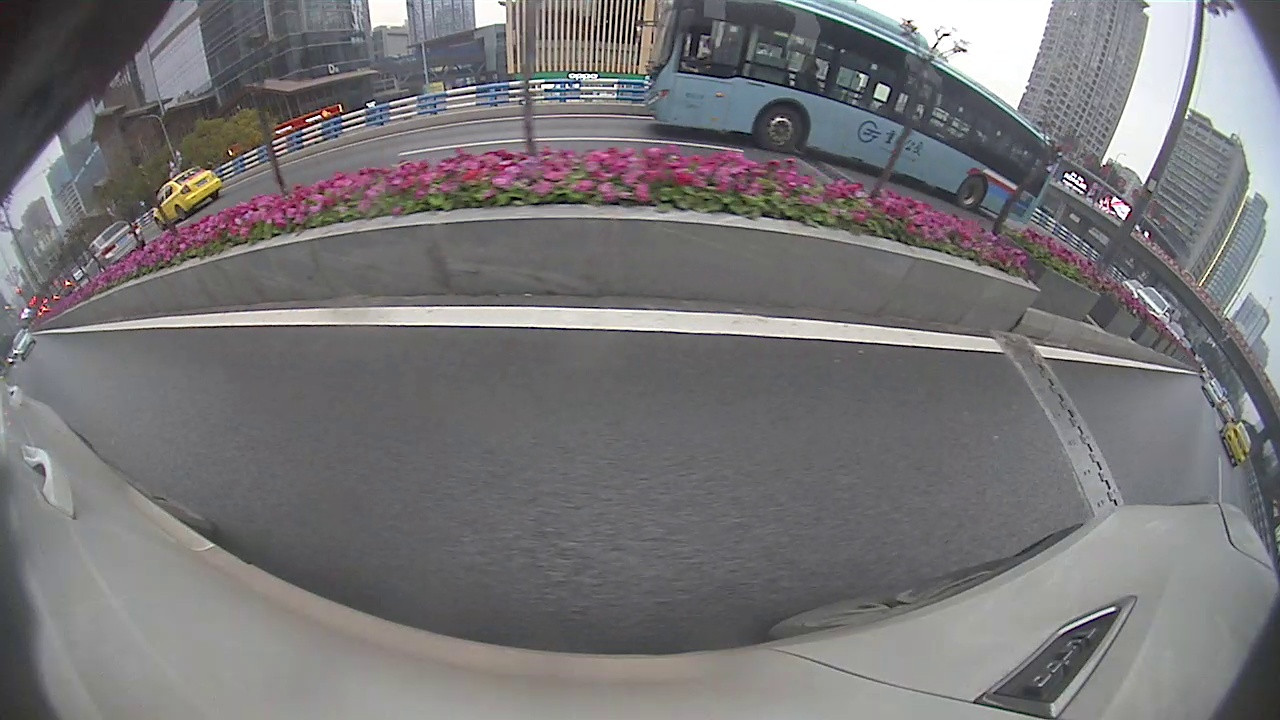car: (642, 3, 1062, 230), (1218, 420, 1253, 468)
front: (752, 103, 805, 155)
rear: (955, 173, 987, 211)
